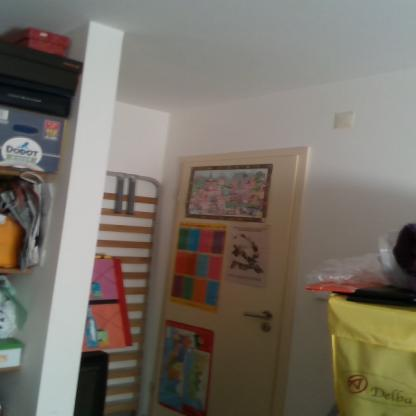door: (160, 158, 284, 416)
hinged: (150, 380, 155, 396), (178, 188, 182, 202)
lever: (244, 310, 270, 322)
